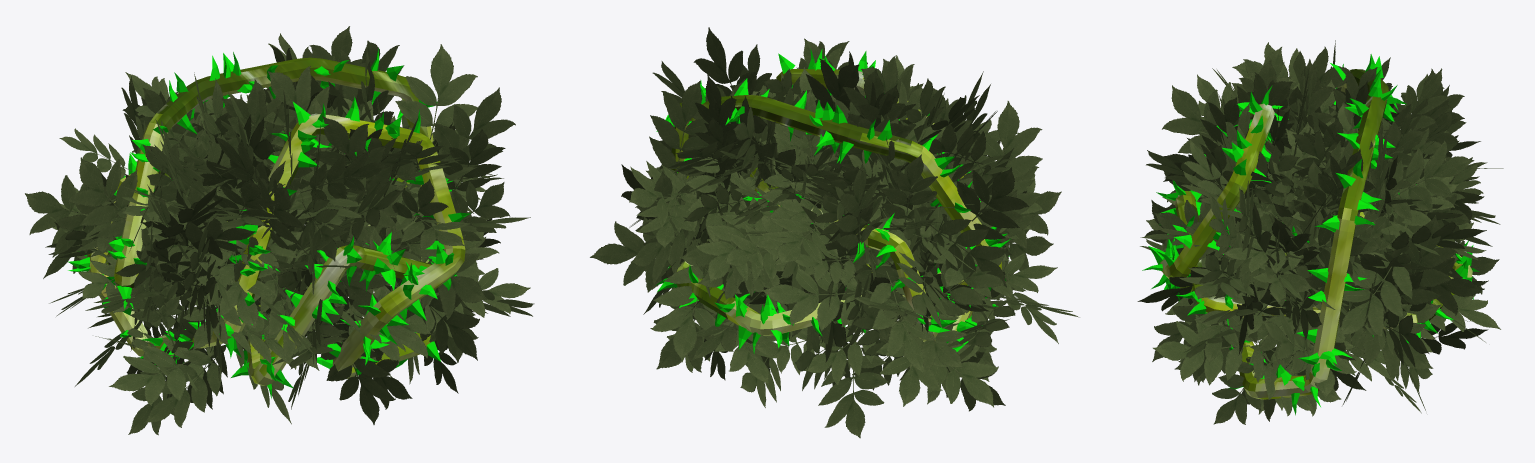
File: puskavaaleatappura.fbx
3 views of the same model, side by side, from view 1: azimuth 30°, elevation 25°; view 2: azimuth 150°, elevation 25°; view 3: azimuth 270°, elevation 25° (orthographic). The views are drawn at different scales.
Parts seen in each view (by area): view 1: 3209107-green-1638813_1280.001, BézierCurve.001; view 2: 3209107-green-1638813_1280.001, BézierCurve.001; view 3: 3209107-green-1638813_1280.001, BézierCurve.001.
Part boxes in pixels (box(x1,y1,x2,y2)): 3209107-green-1638813_1280.001: box(25, 26, 534, 435); BézierCurve.001: box(68, 48, 470, 398); 3209107-green-1638813_1280.001: box(590, 27, 1079, 438); BézierCurve.001: box(655, 49, 1010, 353); 3209107-green-1638813_1280.001: box(1137, 40, 1503, 424); BézierCurve.001: box(1142, 54, 1479, 415).
Bounding box in the file's own units: 657 × 510 × 546.
